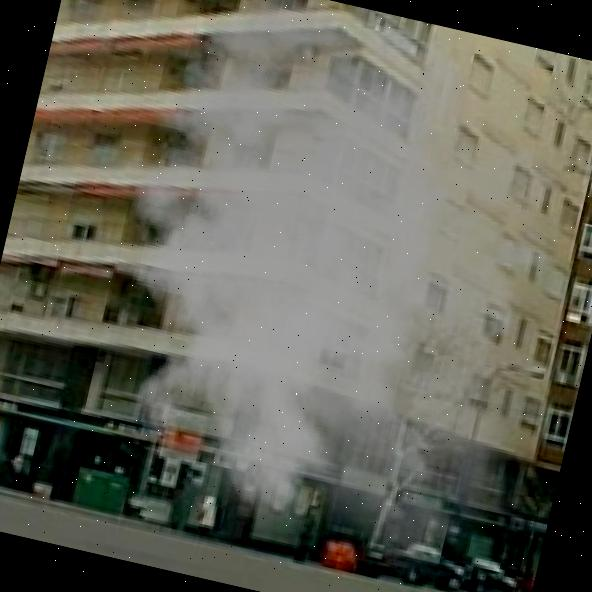smoke: (23, 0, 592, 592)
